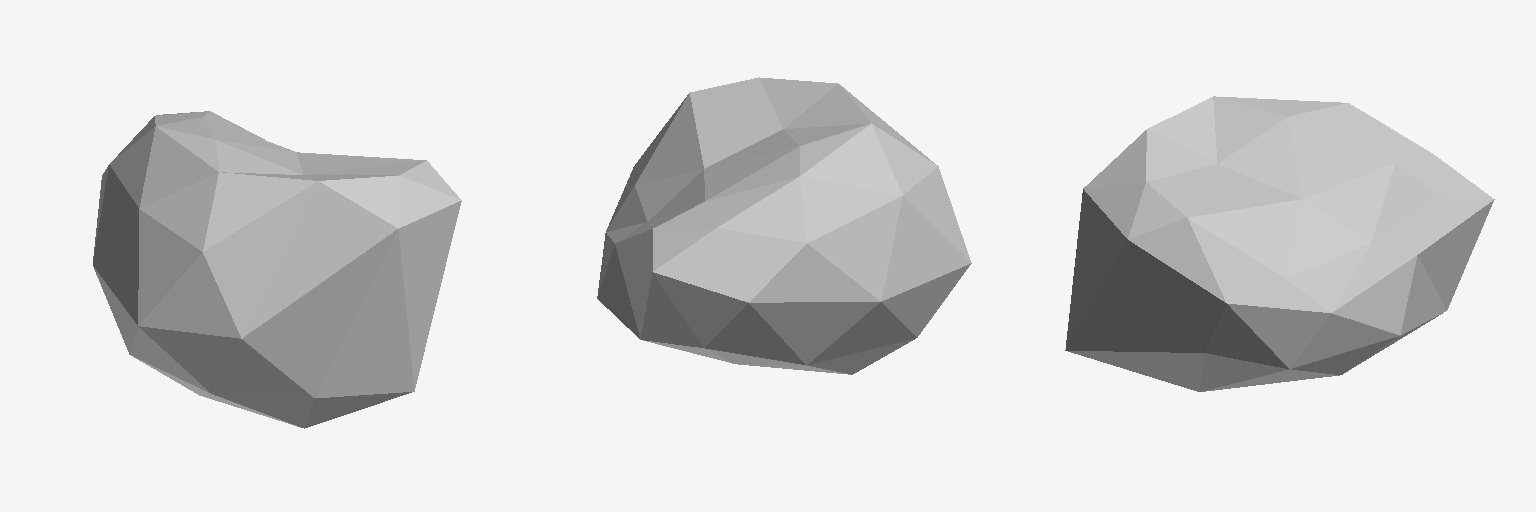
File: rock_2.obj
3 views of the same model, side by side, from view 1: azimuth 30°, elevation 25°; view 2: azimuth 150°, elevation 25°; view 3: azimuth 270°, elevation 25° (orthographic).
Visible parts, largest first — view 1: rock_2; view 2: rock_2; view 3: rock_2.
Part boxes in pixels (x1,y1,x2,y2): rock_2: (93,111,461,428); rock_2: (597,77,971,374); rock_2: (1065,96,1494,391).
Bounding box in the file's own units: 2.24 × 1.67 × 2.59.